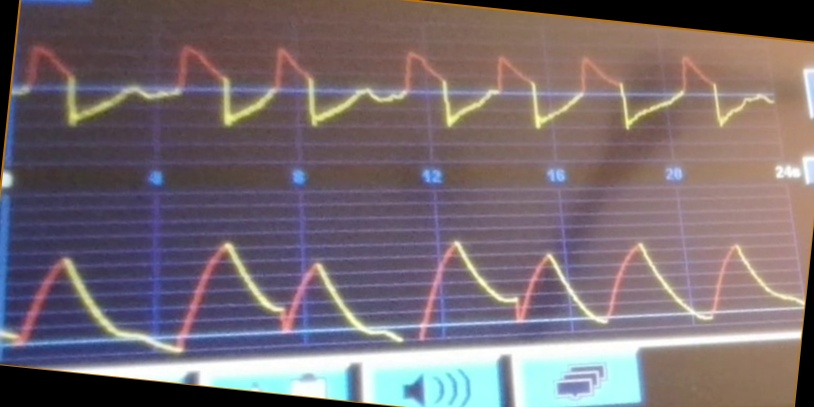Ineffective_effort Flow: (18, 41, 772, 148)
Ineffective_effort Volume: (6, 231, 801, 357)
